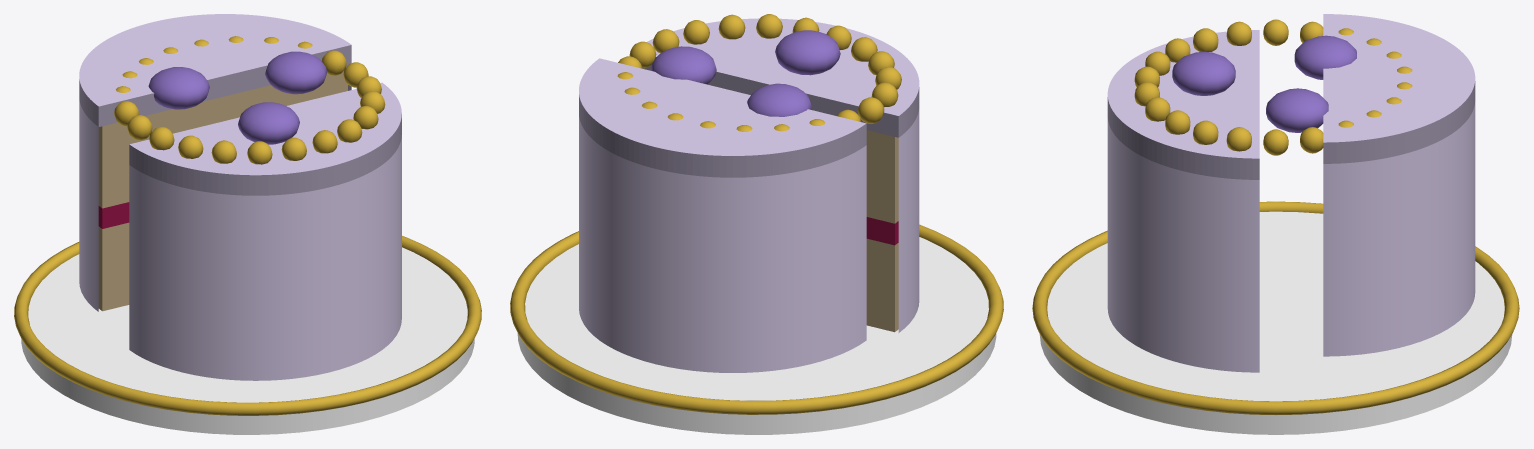
File: torta-10cm-8alto-1p-2porc-lavanda.glb
3 views of the same model, side by side, from view 1: azimuth 30°, elevation 25°; view 2: azimuth 150°, elevation 25°; view 3: azimuth 270°, elevation 25° (orthographic). The views are drawn at different scales.
Bounding box in the file's own units: 0.165 × 0.1016 × 0.165.
